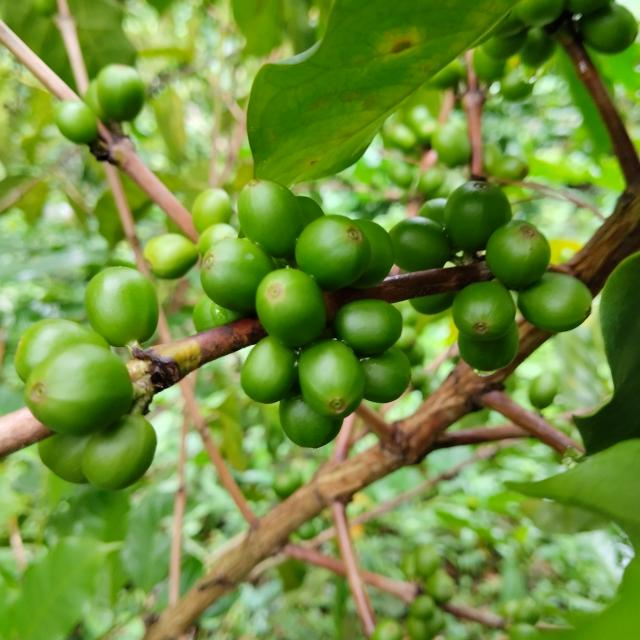green: (23, 344, 132, 435), (83, 266, 158, 347), (14, 319, 109, 382), (81, 415, 156, 491), (295, 215, 371, 290), (200, 238, 275, 313), (255, 268, 326, 347), (237, 178, 304, 258), (299, 339, 365, 419), (445, 180, 513, 253), (518, 272, 594, 332), (486, 220, 552, 289), (241, 336, 298, 404), (334, 299, 403, 355), (453, 281, 516, 341), (390, 216, 453, 272), (279, 395, 343, 449), (350, 219, 395, 289), (458, 323, 520, 372), (360, 346, 411, 403), (38, 434, 90, 484), (410, 293, 456, 315), (296, 196, 325, 226), (419, 197, 448, 226)
